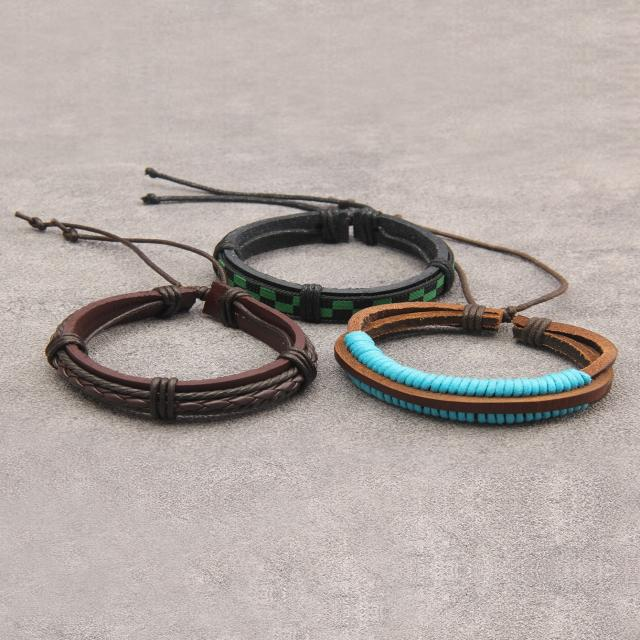bracelet: (5, 53, 640, 503)
